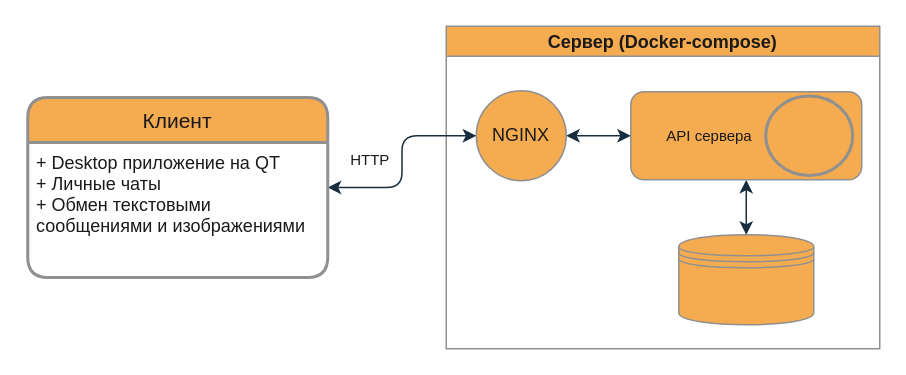
Image size: 906x375. Some labels were removed from this diagram. Here are the shapes that lost their labels. From the top down, the centre of each, then its label:
pixel 809 135: ML модель
pixel 745 279: PostgreSQL
